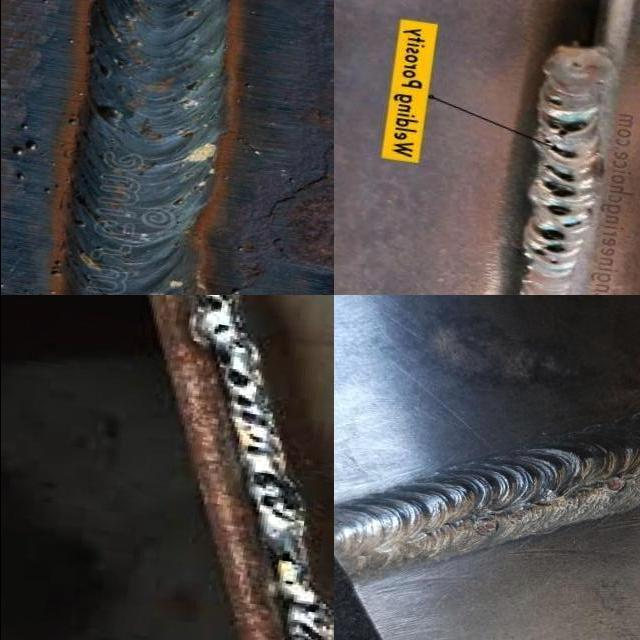defect: (246, 467, 303, 523), (231, 393, 264, 458), (530, 218, 583, 258), (214, 347, 251, 393), (291, 599, 327, 640), (543, 116, 591, 138), (541, 135, 581, 161), (196, 295, 241, 317), (542, 181, 575, 198), (544, 164, 575, 182), (276, 548, 301, 570), (601, 476, 624, 495), (472, 520, 497, 537), (208, 322, 233, 339), (507, 506, 531, 523), (543, 204, 572, 217), (560, 497, 579, 511), (545, 95, 565, 108), (281, 577, 295, 586), (548, 259, 558, 264)
